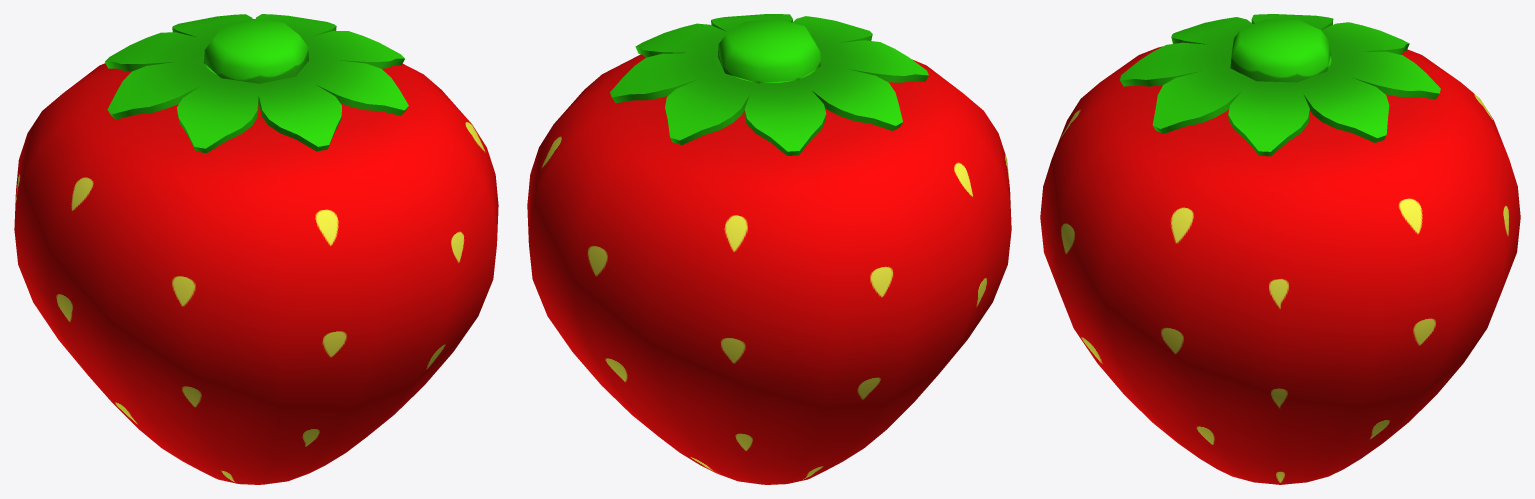
The model's file is strawberry2.fbx.
3 views of the same model, side by side, from view 1: azimuth 30°, elevation 25°; view 2: azimuth 150°, elevation 25°; view 3: azimuth 270°, elevation 25° (orthographic).
Parts seen in each view (by area): view 1: strawb, Cylinder_1; view 2: strawb, Cylinder_1; view 3: strawb, Cylinder_1.
Boxes of the visible parts, box(x1,y1,x2,y2) form: strawb: box(14, 63, 498, 484); Cylinder_1: box(105, 14, 408, 153); strawb: box(527, 54, 1011, 484); Cylinder_1: box(610, 14, 928, 155); strawb: box(1040, 46, 1520, 484); Cylinder_1: box(1120, 14, 1440, 156).
Size of the model in its own units: 124 by 124 by 124.
2 materials, 2 textured.
